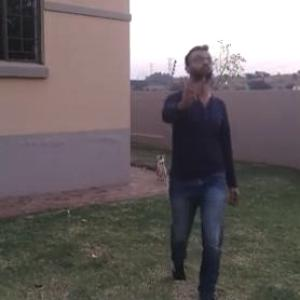takeoff-hand: (176, 74, 202, 108)
